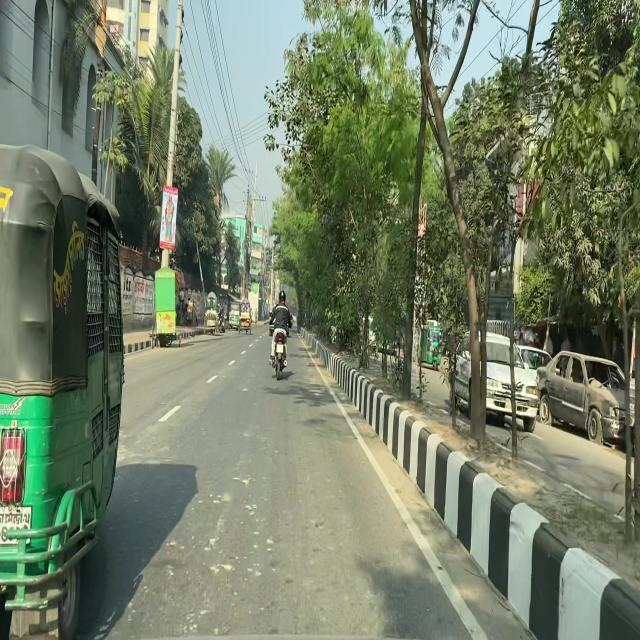car: (448, 327, 542, 435), (534, 346, 635, 446), (496, 342, 561, 416)
motorbike: (268, 308, 294, 382), (210, 302, 226, 336)
